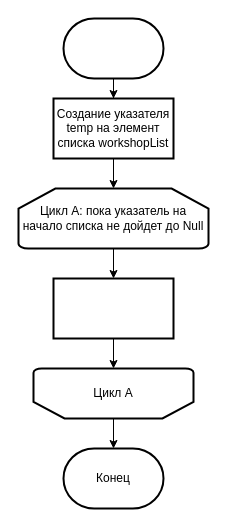
The diagram is 226 pixels wide and 526 high, and some of its shapes have lost their labels. Each missing label, with the box of its shape:
Начало: (62, 17, 164, 79)
Освобождение памяти каждого элемента списка через temp: (52, 277, 174, 339)
